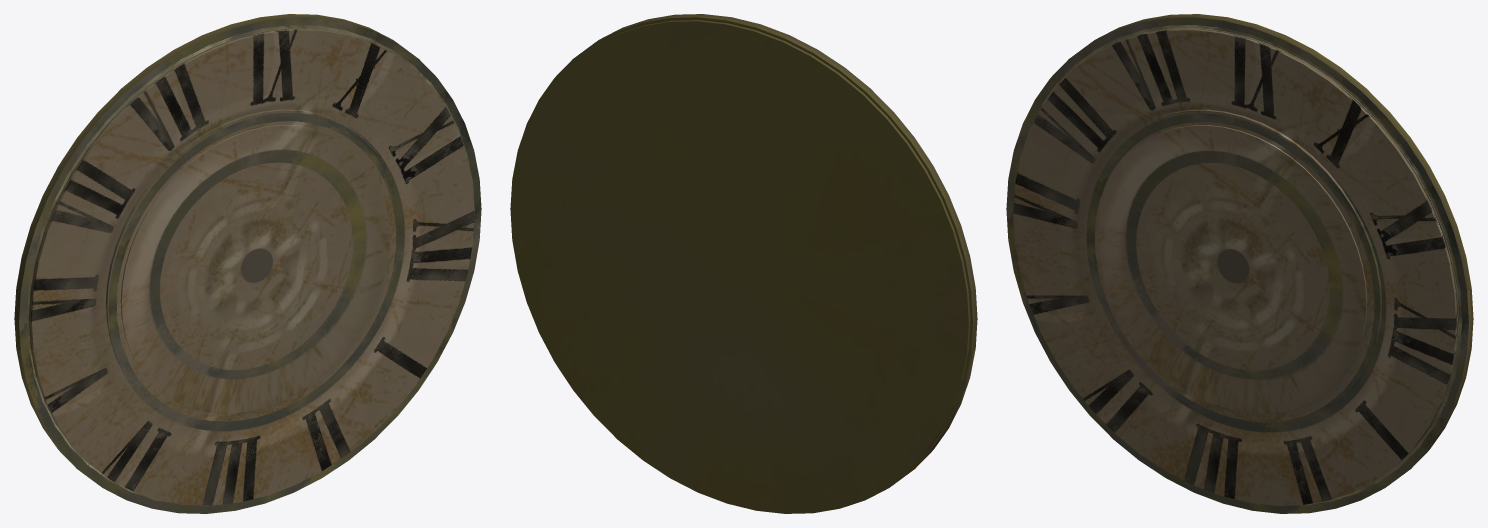
File: Clock-New-face.fbx
3 renders of one model, left to right at view 1: azimuth 30°, elevation 25°; view 2: azimuth 150°, elevation 25°; view 3: azimuth 330°, elevation 25°, orthographic.
Parts seen in each view (by area): view 1: pCylinder2; view 2: pCylinder2; view 3: pCylinder2.
Part boxes in pixels (x1,y1,x2,y2): pCylinder2: (14, 14, 481, 513); pCylinder2: (510, 14, 977, 513); pCylinder2: (1006, 14, 1473, 513).
Bounding box in the file's own units: 64.13 × 64 × 2.82.
